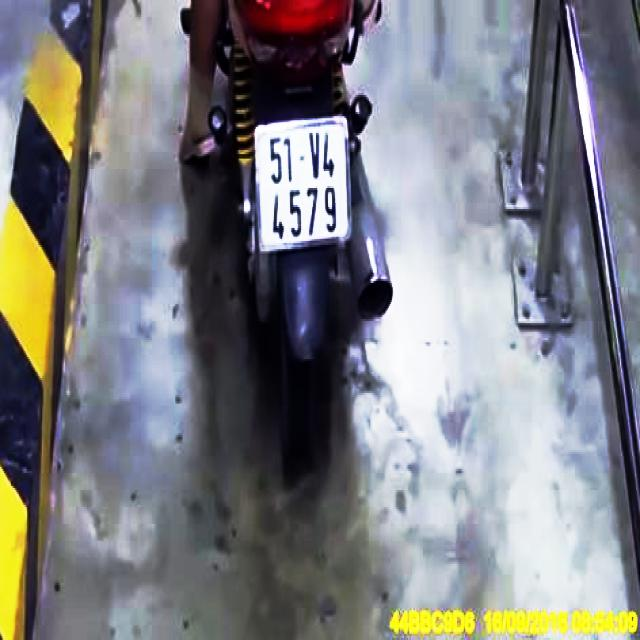license_plate: (257, 115, 350, 250)
